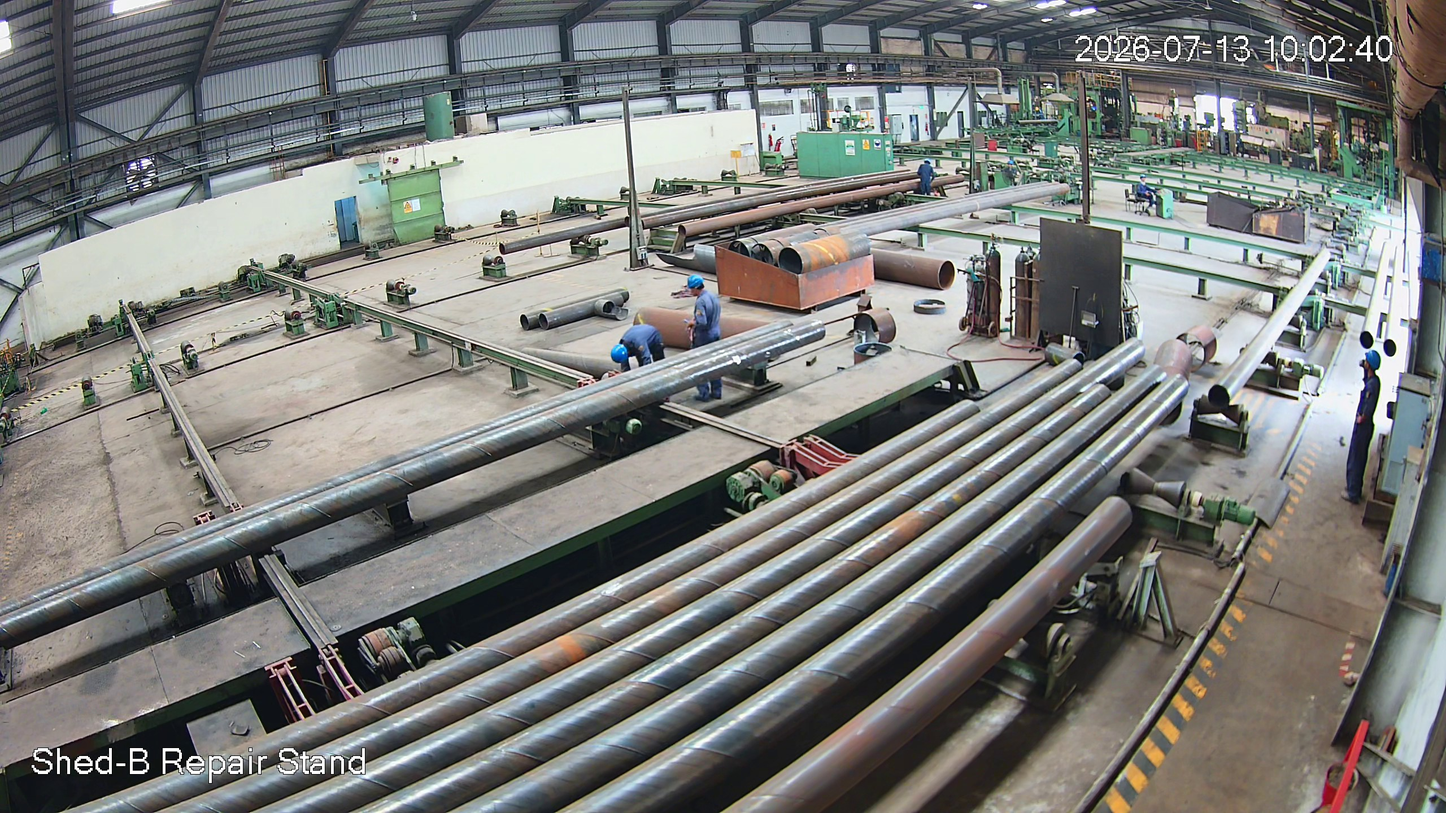Helmet: (607, 341, 634, 367), (1357, 350, 1384, 375), (685, 274, 707, 298)
Person: (1339, 352, 1386, 504), (682, 276, 726, 404), (610, 326, 669, 377)
